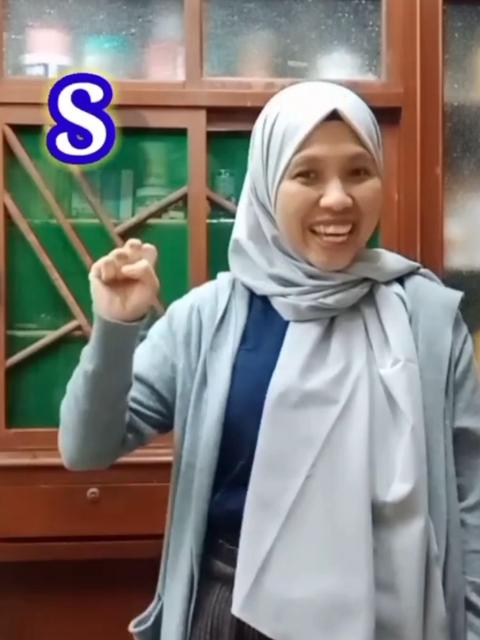S: (84, 234, 166, 330)
